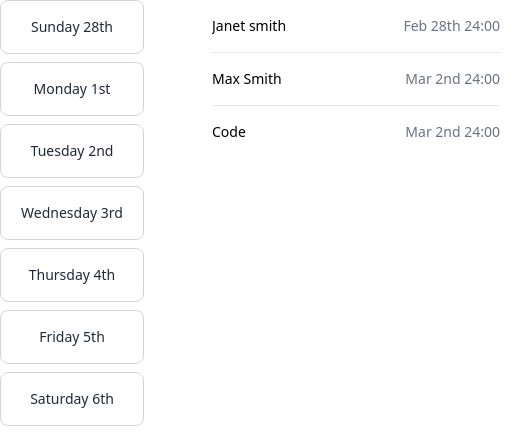
it: Renders week after clicking a selected day
Step 1. Click the text "Sunday 28th" → {"x": 72, "y": 26}, box [31,17,113,36]
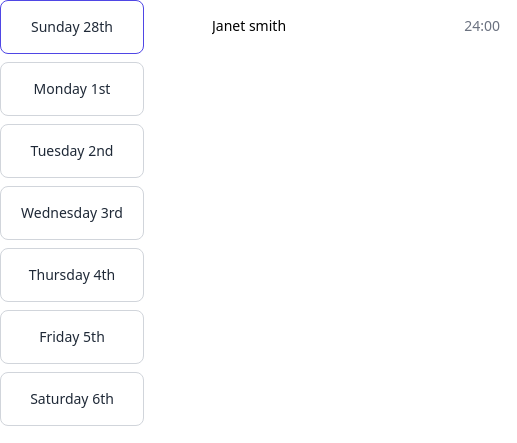
Expected: the heading "Janet smith" is shown, [212,16,286,36]
Now the heading "Max Smith" is gone
Now the heading "Code" is gone
Step 2. Click the text "Sunday 28th" → {"x": 72, "y": 26}, box [31,17,113,36]
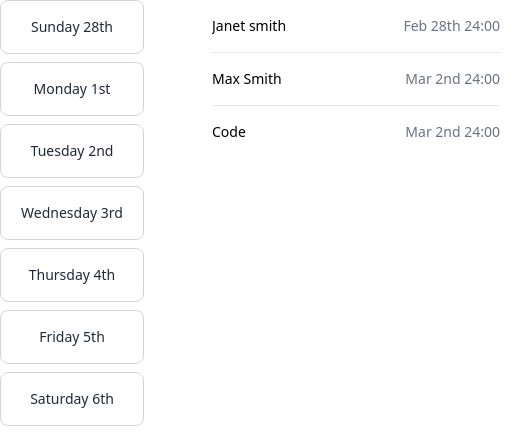
Expected: the heading "Janet smith" is shown, [212,16,286,36]
Now the heading "Max Smith" is shown, box [212,69,282,89]
Now the heading "Code" is shown, box [212,122,246,142]
